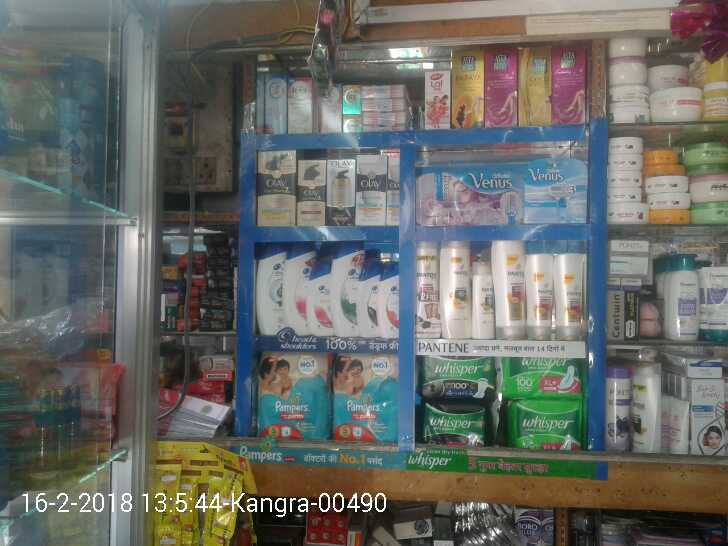venus: (414, 167, 523, 218), (523, 153, 592, 218)
